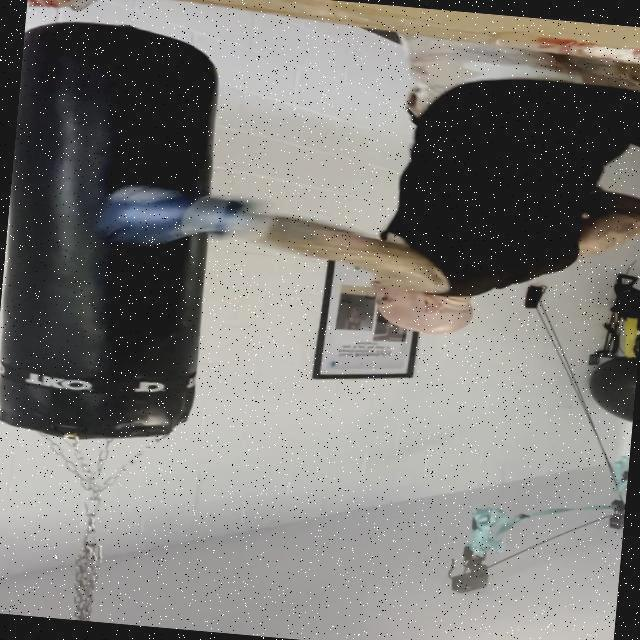punch: (83, 118, 640, 382)
